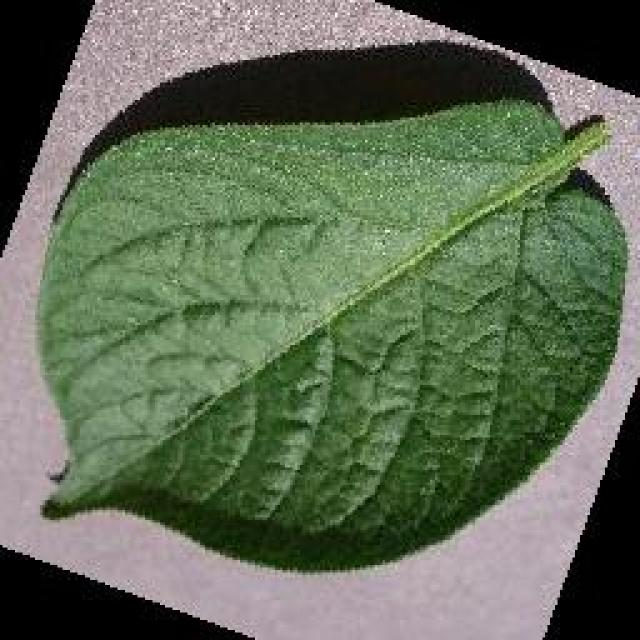Potato___healthy: (32, 101, 627, 573)
